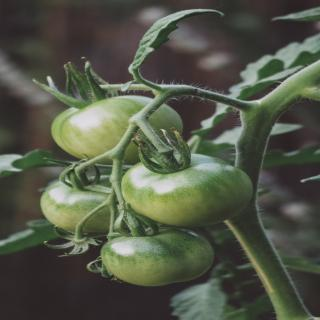Tomato: (49, 56, 188, 168), (116, 127, 258, 229), (100, 209, 215, 290), (37, 157, 119, 235)
